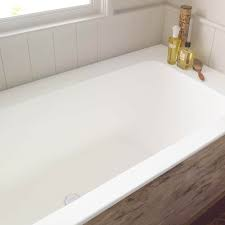bathub: (6, 39, 225, 225)
